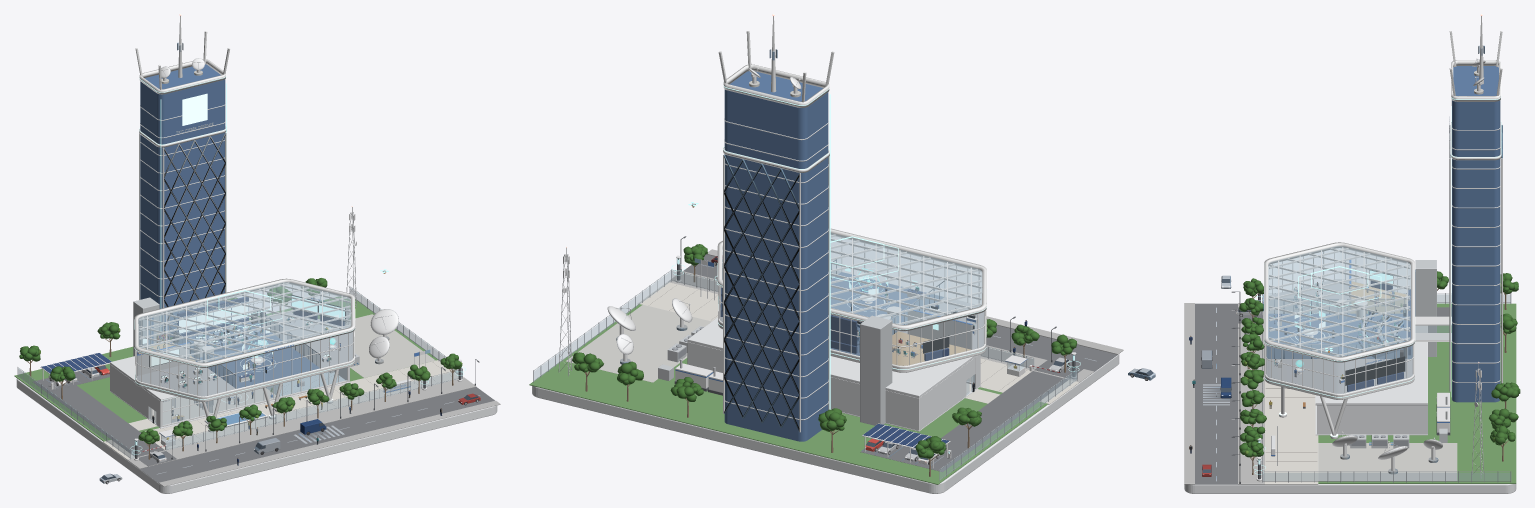
Rendered from smart_cybersecurity.glb.
The picture shows the model from 3 angles, left to right: view 1: azimuth 30°, elevation 25°; view 2: azimuth 150°, elevation 25°; view 3: azimuth 270°, elevation 25°; orthographic projection. The views are drawn at different scales.
Parts seen in each view (by area): view 1: bake-static_site, bake-static_tower, glass-static_building-glass, bake-static_building, vbake-static_building, vbake-static_site, glass-static_site-glass, vbake-static_tower, bake-hot-threat-intelligence, led-static_tower-led_cyan, bake-hot-network-security, screen-static_tower-screen_icon_shield (+1 smaller); view 2: bake-static_site, bake-static_tower, bake-static_building, glass-static_building-glass, vbake-static_site, vbake-static_building, vbake-static_tower, glass-static_site-glass, bake-hot-threat-intelligence, bake-hot-network-security, led-static_tower-led_cyan, bake-hot-consulting; view 3: bake-static_site, bake-static_building, glass-static_building-glass, bake-static_tower, vbake-static_site, vbake-static_building, glass-static_site-glass, bake-hot-threat-intelligence, vbake-hot-threat-intelligence, led-static_building-led_cyan, vbake-hot-endpoint-security, bake-hot-endpoint-security (+2 smaller).
Boxes of the visible parts, bbox=[...] form: bake-static_site: bbox=[14, 286, 500, 493]; bake-static_tower: bbox=[135, 16, 229, 339]; glass-static_building-glass: bbox=[137, 282, 352, 424]; bake-static_building: bbox=[110, 278, 355, 428]; vbake-static_building: bbox=[136, 282, 353, 432]; vbake-static_site: bbox=[17, 207, 479, 474]; glass-static_site-glass: bbox=[18, 287, 462, 458]; vbake-static_tower: bbox=[158, 42, 225, 338]; bake-hot-threat-intelligence: bbox=[260, 295, 398, 357]; led-static_tower-led_cyan: bbox=[139, 75, 226, 308]; bake-hot-network-security: bbox=[174, 297, 265, 363]; screen-static_tower-screen_icon_shield: bbox=[182, 93, 207, 125]; bake-static_site: bbox=[529, 249, 1123, 493]; bake-static_tower: bbox=[718, 16, 834, 441]; bake-static_building: bbox=[687, 228, 986, 431]; glass-static_building-glass: bbox=[720, 233, 984, 394]; vbake-static_site: bbox=[533, 236, 1096, 481]; vbake-static_building: bbox=[719, 234, 985, 365]; vbake-static_tower: bbox=[724, 49, 801, 431]; glass-static_site-glass: bbox=[534, 258, 1076, 479]; bake-hot-threat-intelligence: bbox=[607, 263, 722, 354]; bake-hot-network-security: bbox=[830, 295, 877, 353]; led-static_tower-led_cyan: bbox=[723, 85, 830, 409]; bake-hot-consulting: bbox=[892, 335, 949, 361]; bake-static_site: bbox=[1184, 293, 1516, 493]; bake-static_building: bbox=[1264, 242, 1451, 435]; glass-static_building-glass: bbox=[1266, 246, 1451, 393]; bake-static_tower: bbox=[1449, 16, 1502, 402]; vbake-static_site: bbox=[1203, 271, 1520, 483]; vbake-static_building: bbox=[1263, 247, 1413, 438]; glass-static_site-glass: bbox=[1258, 294, 1510, 480]; bake-hot-threat-intelligence: bbox=[1332, 349, 1442, 459]; vbake-hot-threat-intelligence: bbox=[1274, 358, 1442, 474]; led-static_building-led_cyan: bbox=[1264, 264, 1451, 436]; vbake-hot-endpoint-security: bbox=[1274, 310, 1404, 349]; bake-hot-endpoint-security: bbox=[1277, 315, 1398, 357].
Size of the model in its own units: 90.35 by 78.48 by 62.79.
